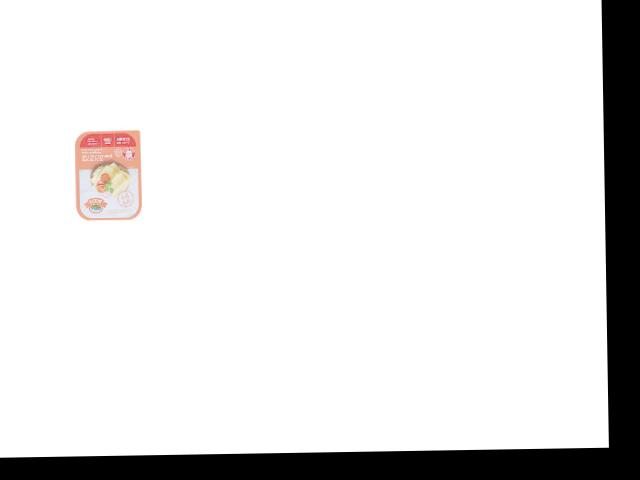cheese: (70, 124, 143, 223)
